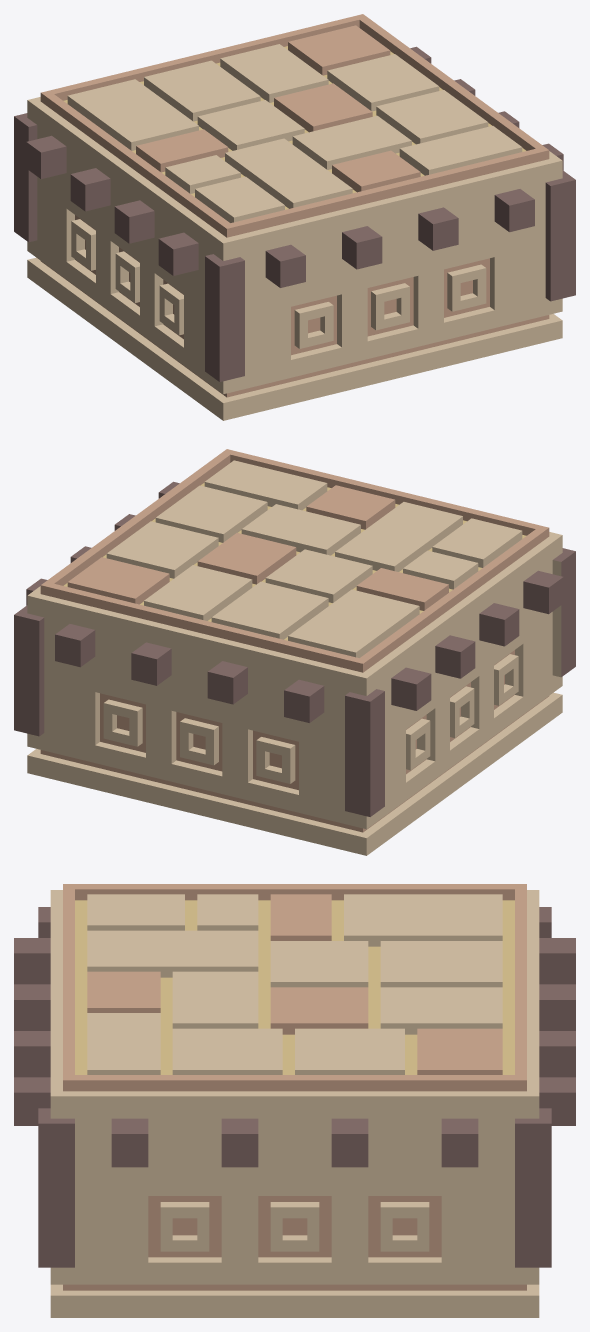
File: BS_Block_2.fbx
The picture shows the model from 3 angles, top to bottom: view 1: azimuth 30°, elevation 25°; view 2: azimuth 150°, elevation 25°; view 3: azimuth 270°, elevation 25°; orthographic projection. The views are drawn at different scales.
Parts seen in each view (by area): view 1: BS_Block_2; view 2: BS_Block_2; view 3: BS_Block_2.
Part boxes in pixels (x1,y1,x2,y2): BS_Block_2: (14,14,575,420); BS_Block_2: (14,449,575,855); BS_Block_2: (14,884,575,1317).
Bounding box in the file's own units: 115 × 115 × 52.5.
